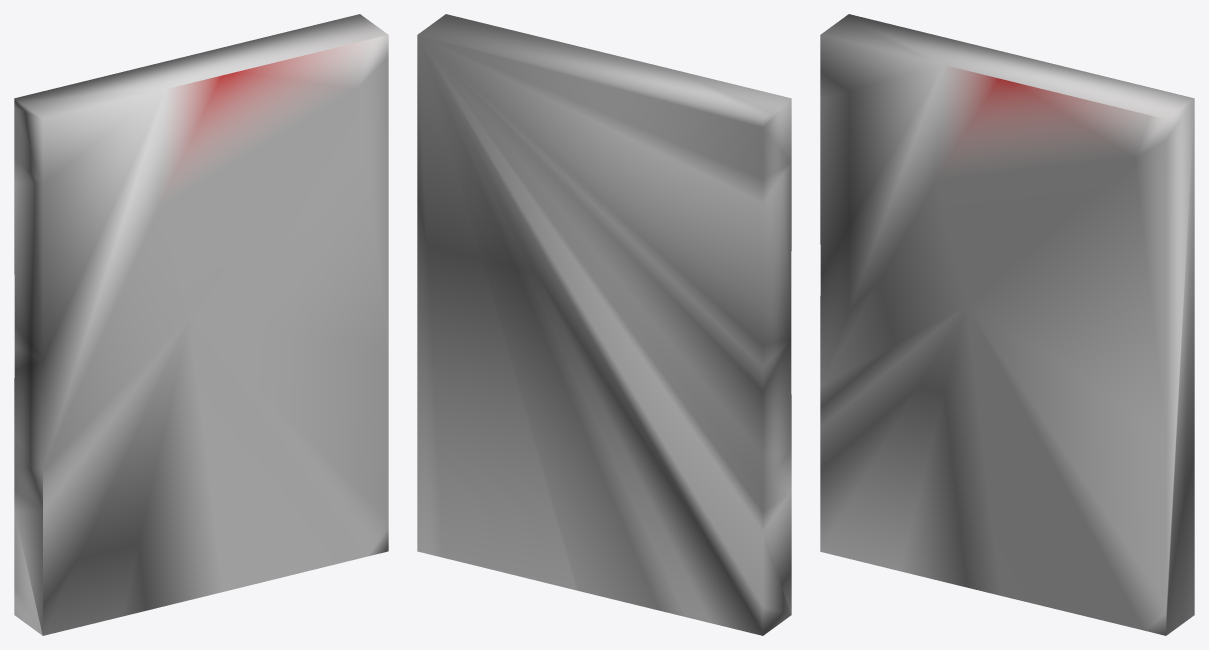
File: SM_FA_Factory_W140_H200.fbx
3 views of the same model, side by side, from view 1: azimuth 30°, elevation 25°; view 2: azimuth 150°, elevation 25°; view 3: azimuth 330°, elevation 25° (orthographic).
Visible parts, largest first — view 1: SM_FA_Factory_W140_H200; view 2: SM_FA_Factory_W140_H200; view 3: SM_FA_Factory_W140_H200.
Boxes of the visible parts, x1=… form: SM_FA_Factory_W140_H200: x1=14, y1=14, x2=388, y2=635; SM_FA_Factory_W140_H200: x1=417, y1=14, x2=791, y2=635; SM_FA_Factory_W140_H200: x1=820, y1=14, x2=1194, y2=635.
Bounding box in the file's own units: 140 × 20 × 200.
